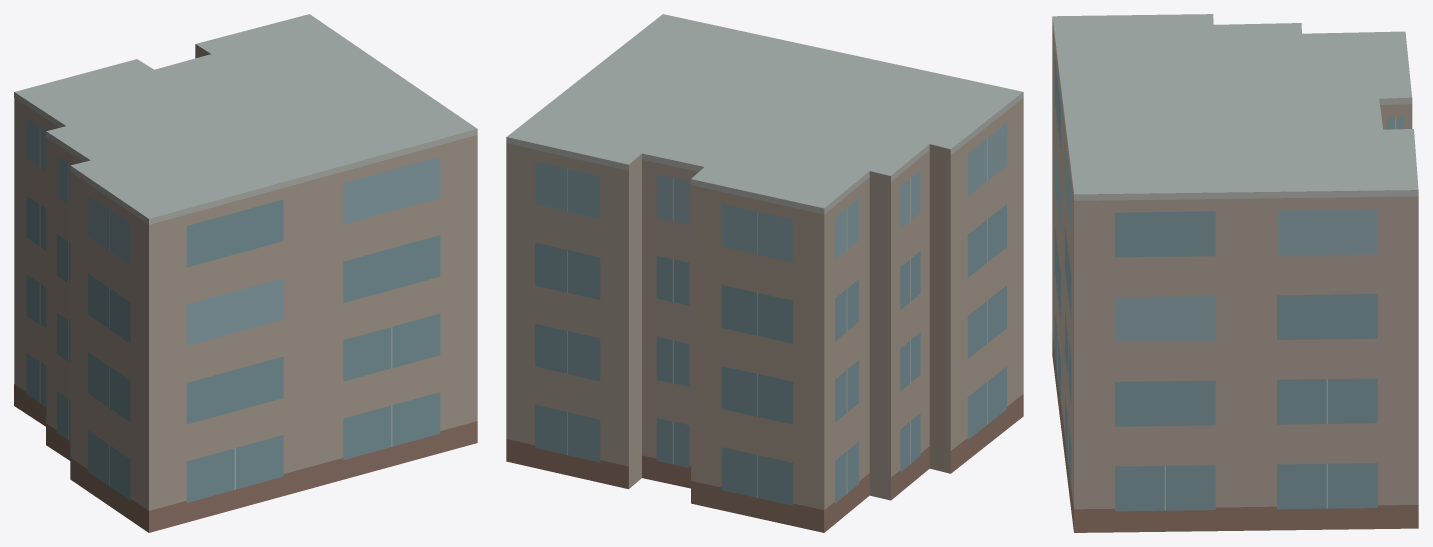
File: survey-upis-32740160.glb
3 renders of one model, left to right at view 1: azimuth 30°, elevation 25°; view 2: azimuth 150°, elevation 25°; view 3: azimuth 270°, elevation 25°, orthographic. The views are drawn at different scales.
Visible parts, largest first — view 1: survey-upis-32740160.tmp; view 2: survey-upis-32740160.tmp; view 3: survey-upis-32740160.tmp.
Part boxes in pixels (box(x1,y1,x2,y2)): survey-upis-32740160.tmp: box(14, 14, 477, 532); survey-upis-32740160.tmp: box(506, 14, 1023, 532); survey-upis-32740160.tmp: box(1052, 14, 1418, 532).
Bounding box in the file's own units: 14.76 × 12.9 × 12.66.
